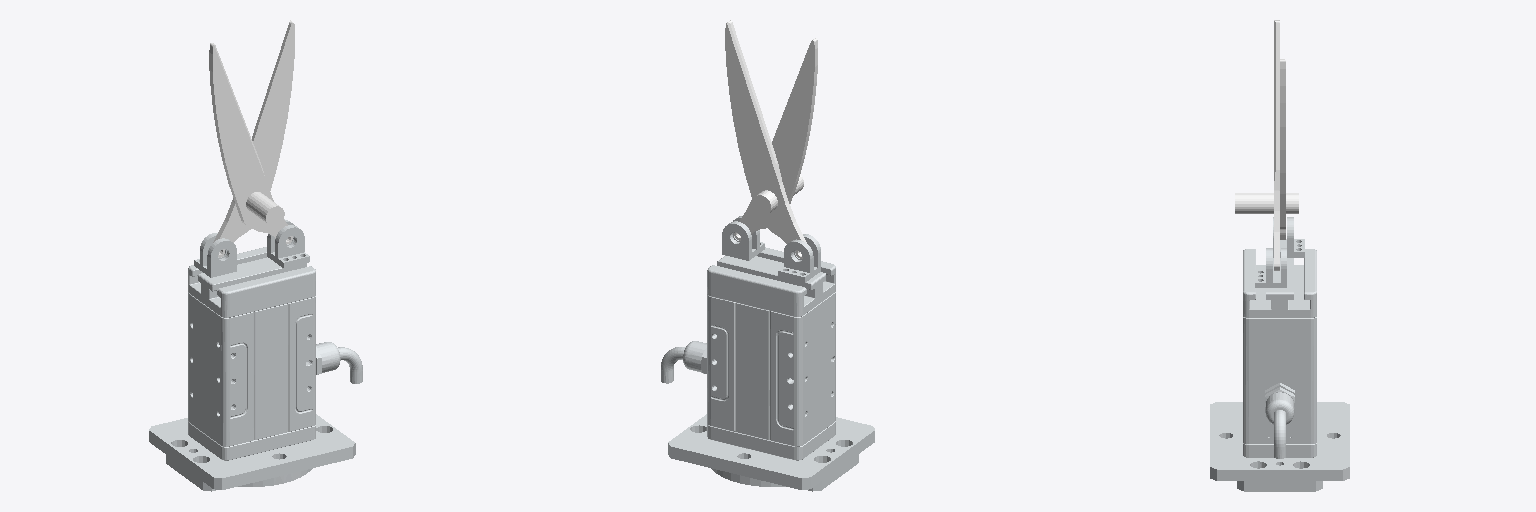
URDF robot description (clipper):
<?xml version="1.0" encoding="utf-8"?>
<!-- This URDF was automatically created by SolidWorks to URDF Exporter! Originally created by [author] ([email redacted]) 
     Commit Version: 1.6.0-1-g15f4949  Build Version: 1.6.7594.29634
     For more information, please see http://wiki.ros.org/sw_urdf_exporter -->
<robot
  name="clipper">
  <link
    name="clipper_link">
    <inertial>
      <origin
        xyz="0.00039271 -3.2693E-06 0.031305"
        rpy="0 0 0" />
      <mass
        value="0.26474" />
      <inertia
        ixx="9.0177E-05"
        ixy="-6.2509E-09"
        ixz="-1.4571E-07"
        iyy="0.00012015"
        iyz="-2.1137E-09"
        izz="0.00012976" />
    </inertial>
    <visual>
      <origin
        xyz="0 0 0"
        rpy="0 0 0" />
      <geometry>
        <mesh
          filename="package://clipper/meshes/clipper_link.STL" />
      </geometry>
      <material
        name="">
        <color
          rgba="0.89804 0.91765 0.92941 1" />
      </material>
    </visual>
    <collision>
      <origin
        xyz="0 0 0"
        rpy="0 0 0" />
      <geometry>
        <mesh
          filename="package://clipper/meshes/clipper_link.STL" />
      </geometry>
    </collision>
  </link>
  <link
    name="gripper_left_link">
    <inertial>
      <origin
        xyz="-0.0061904 -0.0067029 1.0408E-17"
        rpy="0 0 0" />
      <mass
        value="0.003954" />
      <inertia
        ixx="1.2851E-07"
        ixy="-1.4783E-08"
        ixz="-6.8432E-24"
        iyy="1.6215E-07"
        iyz="6.6115E-25"
        izz="1.5904E-07" />
    </inertial>
    <visual>
      <origin
        xyz="0 0 0"
        rpy="0 0 0" />
      <geometry>
        <mesh
          filename="package://clipper/meshes/gripper_left_link.STL" />
      </geometry>
      <material
        name="">
        <color
          rgba="0.89804 0.91765 0.92941 1" />
      </material>
    </visual>
    <collision>
      <origin
        xyz="0 0 0"
        rpy="0 0 0" />
      <geometry>
        <mesh
          filename="package://clipper/meshes/gripper_left_link.STL" />
      </geometry>
    </collision>
  </link>
  <joint
    name="gripper_left_joint"
    type="prismatic">
    <origin
      xyz="-0.017 0.009 0.099"
      rpy="0 1.5708 0" />
    <parent
      link="clipper_link" />
    <child
      link="gripper_left_link" />
    <axis
      xyz="0 0 1" />
    <limit
      lower="0"
      upper="0"
      effort="0"
      velocity="0" />
    <mimic
      joint="gripper_right_joint"
      multiplier="-1"
      offset="0" />
  </joint>
  <link
    name="clipper_left_link">
    <inertial>
      <origin
        xyz="0.022666 0.04455 -0.0014901"
        rpy="0 0 0" />
      <mass
        value="0.0042687" />
      <inertia
        ixx="3.0462E-06"
        ixy="-9.9172E-07"
        ixz="-1.2492E-10"
        iyy="4.3139E-07"
        iyz="-1.1863E-09"
        izz="3.4712E-06" />
    </inertial>
    <visual>
      <origin
        xyz="0 0 0"
        rpy="0 0 0" />
      <geometry>
        <mesh
          filename="package://clipper/meshes/clipper_left_link.STL" />
      </geometry>
      <material
        name="">
        <color
          rgba="1 1 1 1" />
      </material>
    </visual>
    <collision>
      <origin
        xyz="0 0 0"
        rpy="0 0 0" />
      <geometry>
        <mesh
          filename="package://clipper/meshes/clipper_left_link.STL" />
      </geometry>
    </collision>
  </link>
  <joint
    name="clipper_left_joint"
    type="revolute">
    <origin
      xyz="-0.01 -0.009 0"
      rpy="1.5708 -1.5708 0" />
    <parent
      link="gripper_left_link" />
    <child
      link="clipper_left_link" />
    <axis
      xyz="0 0 -1" />
    <limit
      lower="0"
      upper="0"
      effort="0"
      velocity="0" />
  </joint>
  <link
    name="clipper_revolute_link">
    <inertial>
      <origin
        xyz="-1.3564E-18 0 -0.006"
        rpy="0 0 0" />
      <mass
        value="0.0023562" />
      <inertia
        ixx="1.9144E-07"
        ixy="2.5849E-25"
        ixz="-3.7275E-23"
        iyy="1.9144E-07"
        iyz="-3.3087E-24"
        izz="2.9452E-08" />
    </inertial>
    <visual>
      <origin
        xyz="0 0 0"
        rpy="0 0 0" />
      <geometry>
        <mesh
          filename="package://clipper/meshes/clipper_revolute_link.STL" />
      </geometry>
      <material
        name="">
        <color
          rgba="1 1 1 1" />
      </material>
    </visual>
    <collision>
      <origin
        xyz="0 0 0"
        rpy="0 0 0" />
      <geometry>
        <mesh
          filename="package://clipper/meshes/clipper_revolute_link.STL" />
      </geometry>
    </collision>
  </link>
  <joint
    name="clipper_revolute_joint"
    type="revolute">
    <origin
      xyz="0.017 0.022564 0"
      rpy="3.1416 0 0" />
    <parent
      link="clipper_left_link" />
    <child
      link="clipper_revolute_link" />
    <axis
      xyz="0 0 -1" />
    <limit
      lower="0"
      upper="0"
      effort="0"
      velocity="0" />
  </joint>
  <link
    name="gripper_right_link">
    <inertial>
      <origin
        xyz="-0.0061904 0.0067029 -4.5797E-16"
        rpy="0 0 0" />
      <mass
        value="0.003954" />
      <inertia
        ixx="1.2851E-07"
        ixy="1.4783E-08"
        ixz="-1.652E-21"
        iyy="1.6215E-07"
        iyz="4.3323E-22"
        izz="1.5904E-07" />
    </inertial>
    <visual>
      <origin
        xyz="0 0 0"
        rpy="0 0 0" />
      <geometry>
        <mesh
          filename="package://clipper/meshes/gripper_right_link.STL" />
      </geometry>
      <material
        name="">
        <color
          rgba="0.89804 0.91765 0.92941 1" />
      </material>
    </visual>
    <collision>
      <origin
        xyz="0 0 0"
        rpy="0 0 0" />
      <geometry>
        <mesh
          filename="package://clipper/meshes/gripper_right_link.STL" />
      </geometry>
    </collision>
  </link>
  <joint
    name="gripper_right_joint"
    type="prismatic">
    <origin
      xyz="0.017 -0.009 0.099"
      rpy="0 1.5708 0" />
    <parent
      link="clipper_link" />
    <child
      link="gripper_right_link" />
    <axis
      xyz="0 0 -1" />
    <limit
      lower="0"
      upper="0"
      effort="0"
      velocity="0" />
  </joint>
  <link
    name="clipper_right_link">
    <inertial>
      <origin
        xyz="-0.022666 0.04455 0.0014901"
        rpy="0 0 0" />
      <mass
        value="0.0042687" />
      <inertia
        ixx="3.0462E-06"
        ixy="9.9172E-07"
        ixz="-1.2492E-10"
        iyy="4.3139E-07"
        iyz="1.1863E-09"
        izz="3.4712E-06" />
    </inertial>
    <visual>
      <origin
        xyz="0 0 0"
        rpy="0 0 0" />
      <geometry>
        <mesh
          filename="package://clipper/meshes/clipper_right_link.STL" />
      </geometry>
      <material
        name="">
        <color
          rgba="1 1 1 1" />
      </material>
    </visual>
    <collision>
      <origin
        xyz="0 0 0"
        rpy="0 0 0" />
      <geometry>
        <mesh
          filename="package://clipper/meshes/clipper_right_link.STL" />
      </geometry>
    </collision>
  </link>
  <joint
    name="clipper_right_joint"
    type="revolute">
    <origin
      xyz="-0.01 0.009 0"
      rpy="1.5708 -1.5708 0" />
    <parent
      link="gripper_right_link" />
    <child
      link="clipper_right_link" />
    <axis
      xyz="0 0 1" />
    <limit
      lower="0"
      upper="0"
      effort="0"
      velocity="0" />
  </joint>
  <link
    name="clipper_revolute2_link">
    <inertial>
      <origin
        xyz="-1.3564E-18 0 -0.006"
        rpy="0 0 0" />
      <mass
        value="0.0023562" />
      <inertia
        ixx="1.9144E-07"
        ixy="2.5849E-25"
        ixz="-3.7275E-23"
        iyy="1.9144E-07"
        iyz="-3.3087E-24"
        izz="2.9452E-08" />
    </inertial>
    <visual>
      <origin
        xyz="0 0 0"
        rpy="0 0 0" />
      <geometry>
        <mesh
          filename="package://clipper/meshes/clipper_revolute2_link.STL" />
      </geometry>
      <material
        name="">
        <color
          rgba="1 1 1 1" />
      </material>
    </visual>
    <collision>
      <origin
        xyz="0 0 0"
        rpy="0 0 0" />
      <geometry>
        <mesh
          filename="package://clipper/meshes/clipper_revolute2_link.STL" />
      </geometry>
    </collision>
  </link>
  <joint
    name="clipper_revolute2_joint"
    type="revolute">
    <origin
      xyz="-0.017 0.022564 0"
      rpy="3.1416 0 0" />
    <parent
      link="clipper_right_link" />
    <child
      link="clipper_revolute2_link" />
    <axis
      xyz="0 0 -1" />
    <limit
      lower="0"
      upper="0"
      effort="0"
      velocity="0" />
  </joint>
</robot>

--- What the picture shows (computed from the rendered views, not written in the file) ---
Views: 3 orthographic renders of the robot side by side, from view 1: azimuth 30°, elevation 25°; view 2: azimuth 150°, elevation 25°; view 3: azimuth 270°, elevation 25°.
Model clipper with 7 links and 6 joints (4 revolute, 2 prismatic), rooted at clipper_link, posed all joints at 0.
Visible links, largest first — view 1: clipper_link, clipper_right_link, clipper_left_link, gripper_right_link, gripper_left_link, clipper_revolute_link; view 2: clipper_link, clipper_left_link, clipper_right_link, gripper_left_link, gripper_right_link, clipper_revolute_link; view 3: clipper_link, clipper_right_link, clipper_revolute_link, clipper_left_link, gripper_right_link, gripper_left_link.
Link boxes in pixels (box(x1,y1,x2,y2)): clipper_link: box(149, 247, 362, 491); clipper_right_link: box(209, 43, 292, 243); clipper_left_link: box(213, 20, 294, 257); gripper_right_link: box(267, 219, 309, 268); gripper_left_link: box(194, 233, 236, 277); clipper_revolute_link: box(246, 192, 284, 226); clipper_link: box(661, 247, 874, 491); clipper_left_link: box(725, 20, 806, 258); clipper_right_link: box(734, 38, 817, 240); gripper_left_link: box(778, 234, 820, 282); gripper_right_link: box(722, 216, 764, 260); clipper_revolute_link: box(752, 175, 803, 215); clipper_link: box(1210, 249, 1349, 491); clipper_right_link: box(1274, 20, 1279, 270); clipper_revolute_link: box(1235, 193, 1298, 213); clipper_left_link: box(1280, 59, 1285, 239); gripper_right_link: box(1255, 248, 1286, 287); gripper_left_link: box(1273, 217, 1304, 257).
Bounding box of the posed robot: 0.0955 × 0.065 × 0.2177 m (x, y, z).
Meshes: 7 distinct files referenced, 6 mesh visuals loaded (6 binary STL); not drawn: 1 (reference not matched to a file when rendering).